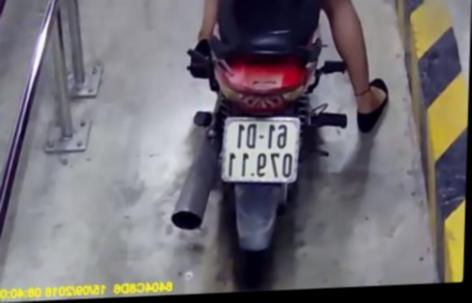License_Plate: (208, 113, 307, 191)
